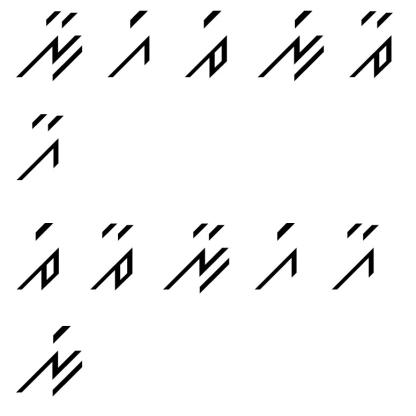gan: (330, 218, 386, 293), (13, 110, 67, 183)
gang: (102, 8, 160, 81), (252, 218, 298, 293)
ngan: (11, 6, 88, 84), (162, 220, 235, 296)
ngang: (251, 8, 328, 82), (17, 317, 89, 396)
tan: (90, 218, 143, 294), (349, 9, 399, 82)
tang: (182, 8, 236, 84), (14, 221, 63, 292)
